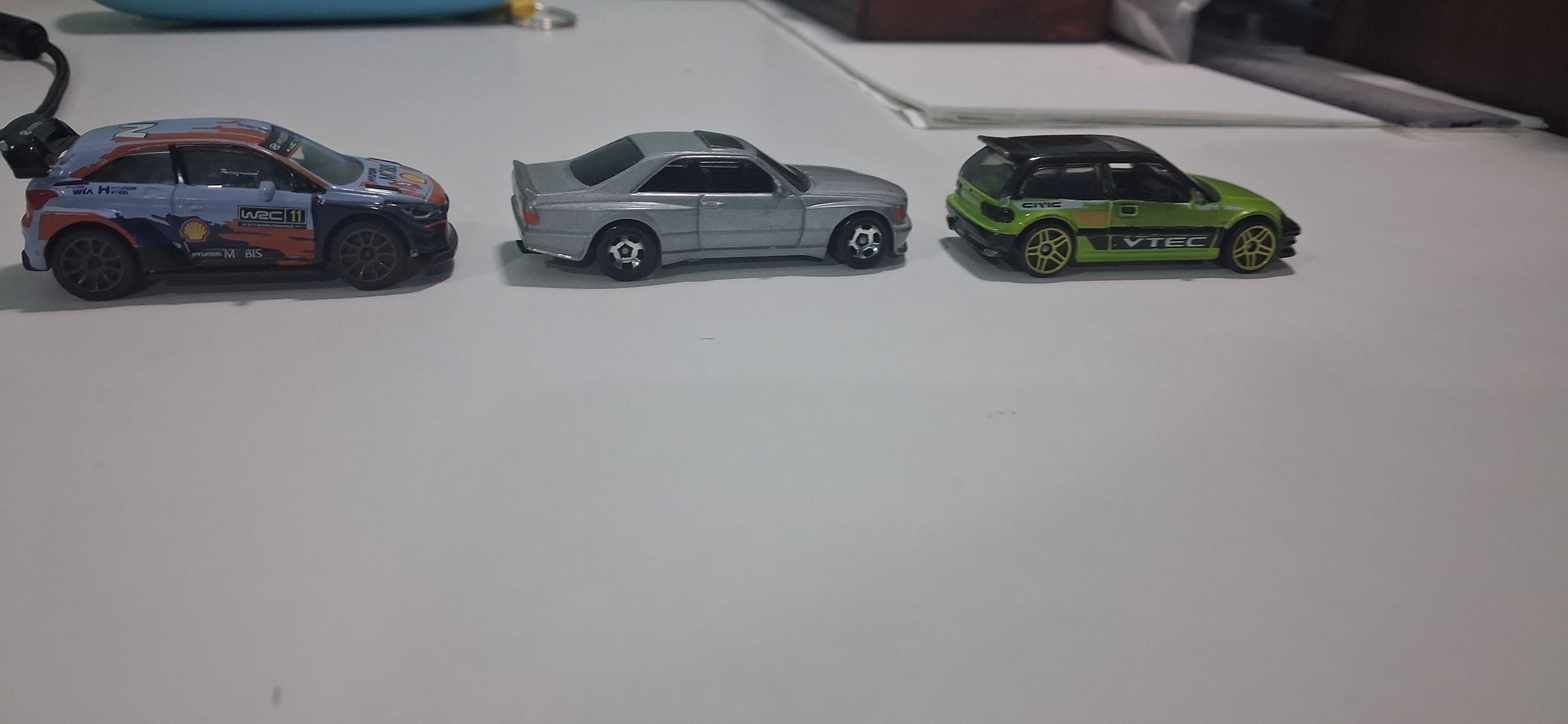Honda_Civic: (948, 101, 1305, 316)
Hyundai_I20_WRC: (0, 89, 454, 320)
Mercedes_Benz_560_SEC_AMG: (492, 101, 932, 315)
